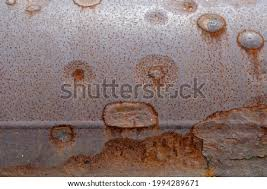rust: (97, 138, 209, 176), (97, 101, 161, 128), (48, 123, 76, 147), (197, 13, 226, 36), (236, 29, 265, 51), (66, 65, 88, 86), (146, 66, 166, 81)
